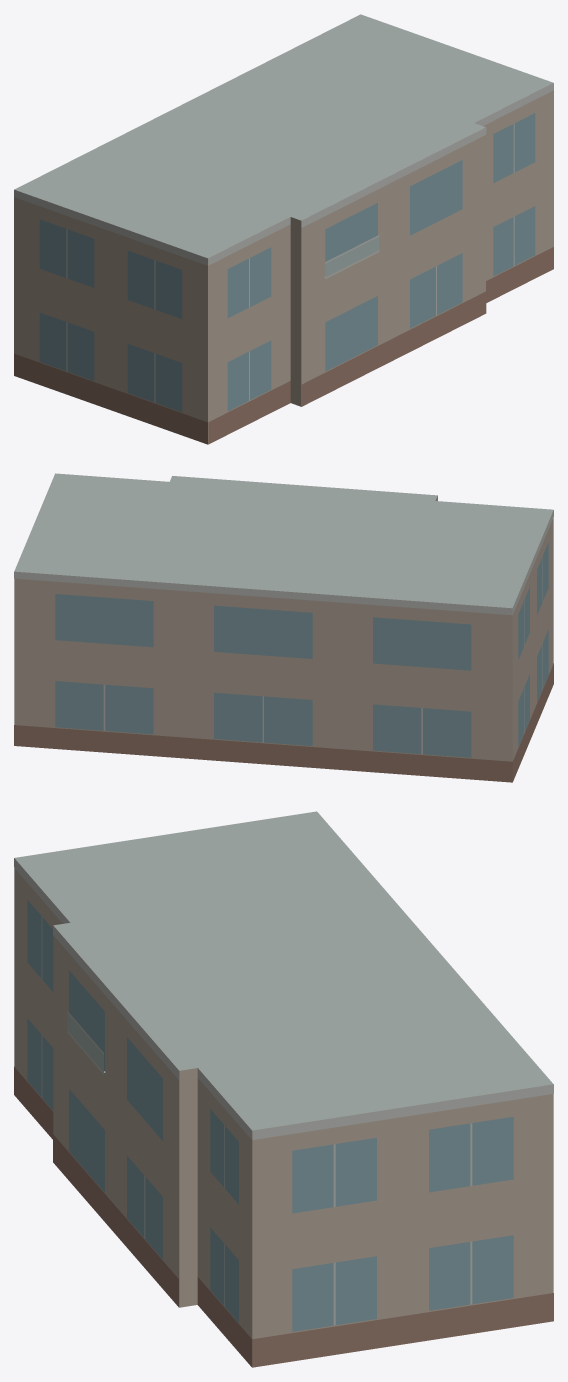
Rendered from survey-upis-32702166.glb.
The picture shows the model from 3 angles, top to bottom: view 1: azimuth 30°, elevation 25°; view 2: azimuth 150°, elevation 25°; view 3: azimuth 270°, elevation 25°; orthographic projection. The views are drawn at different scales.
Visible parts, largest first — view 1: survey-upis-32702166.tmp; view 2: survey-upis-32702166.tmp; view 3: survey-upis-32702166.tmp.
Part boxes in pixels (x1=…): survey-upis-32702166.tmp: x1=14, y1=14, x2=553, y2=444; survey-upis-32702166.tmp: x1=14, y1=473, x2=553, y2=782; survey-upis-32702166.tmp: x1=14, y1=811, x2=553, y2=1367.
Size of the model in its own units: 17.64 by 6.1 by 12.6.
